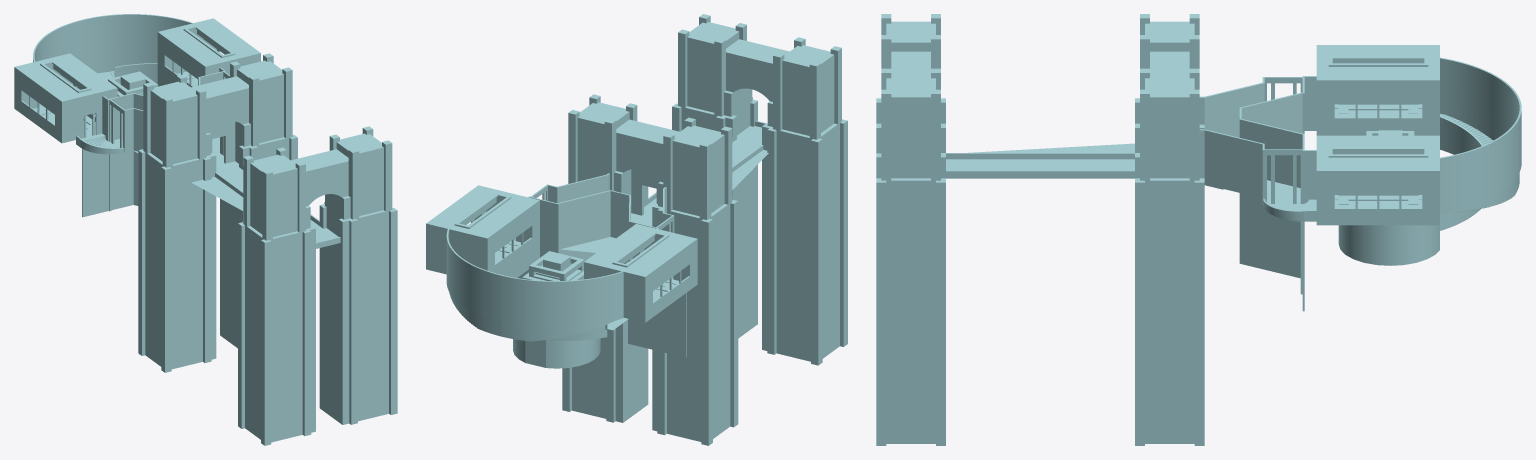
Rendered from Level 1 Left.fbx.
3 renders of one model, left to right at view 1: azimuth 30°, elevation 25°; view 2: azimuth 150°, elevation 25°; view 3: azimuth 270°, elevation 25°, orthographic. The views are drawn at different scales.
Visible parts, largest first — view 1: Group1; view 2: Group1; view 3: Group1.
Boxes of the visible parts, x1,y1,x2,y2 form: Group1: (14,14,397,445); Group1: (426,14,847,445); Group1: (876,14,1521,445).
Size of the model in its own units: 1799 by 2328 by 3891.
